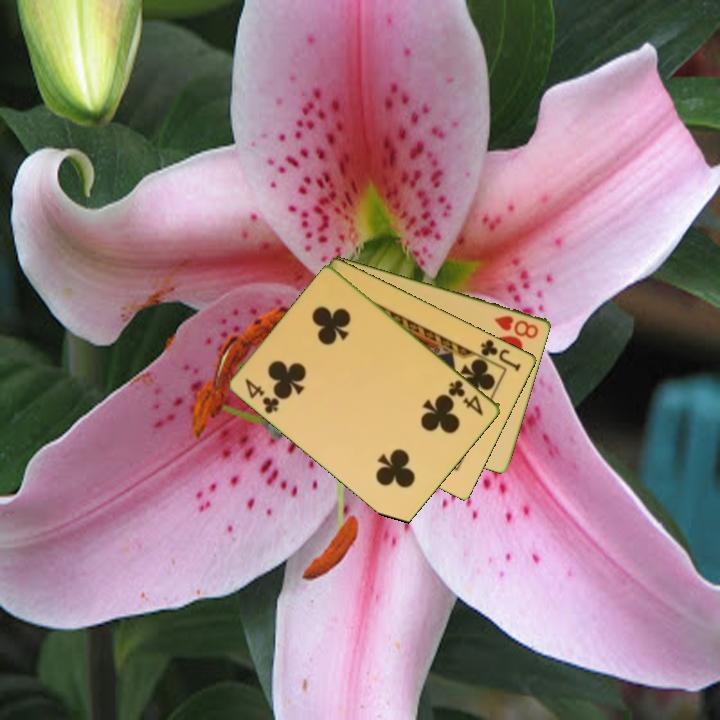4c: (445, 376, 487, 419), (242, 375, 283, 417)
8h: (491, 312, 542, 341)
Jc: (478, 336, 524, 374)
